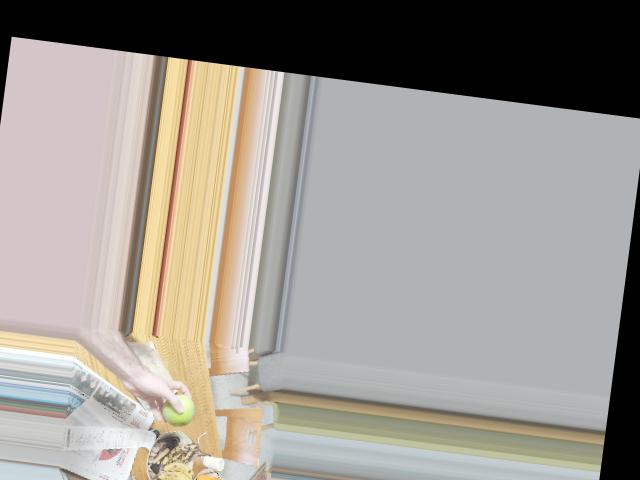apple: (157, 392, 200, 428)
